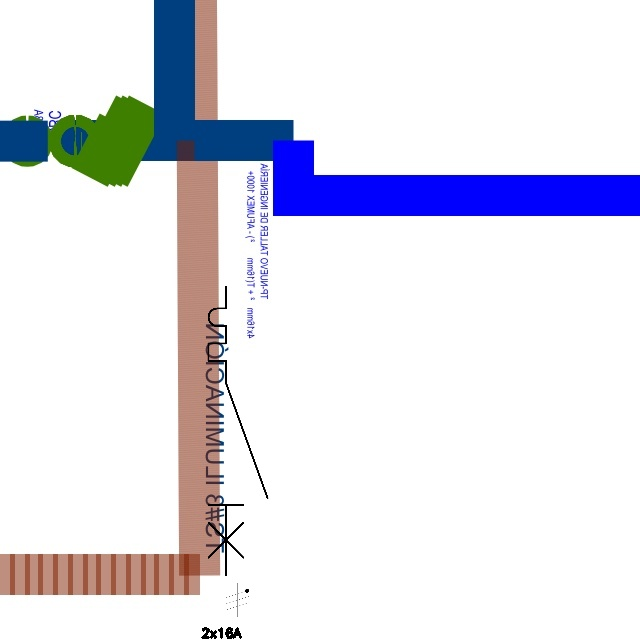interruptor_termomagnetico: (201, 279, 275, 583)
